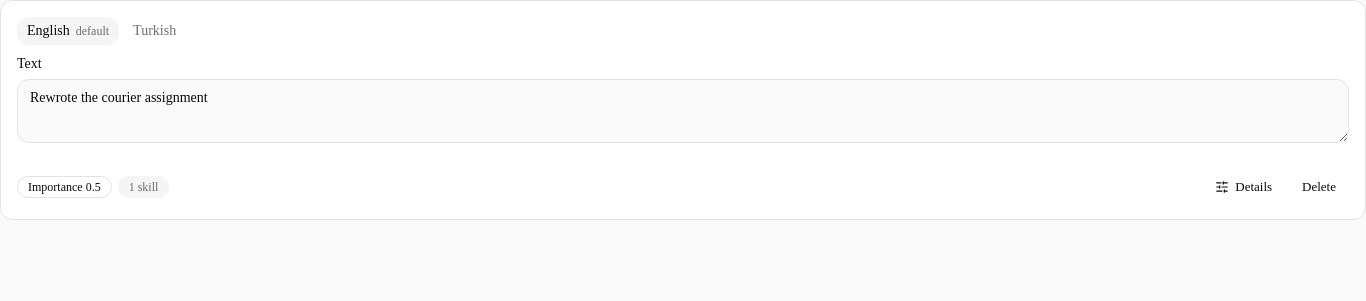
Test: a wording that was translated rather than written › stops once the reader has made the wording theirs
The width and height of the screenshot is (1366, 301).
Click the tab "Turkish": (155, 31) [123,17,186,45]
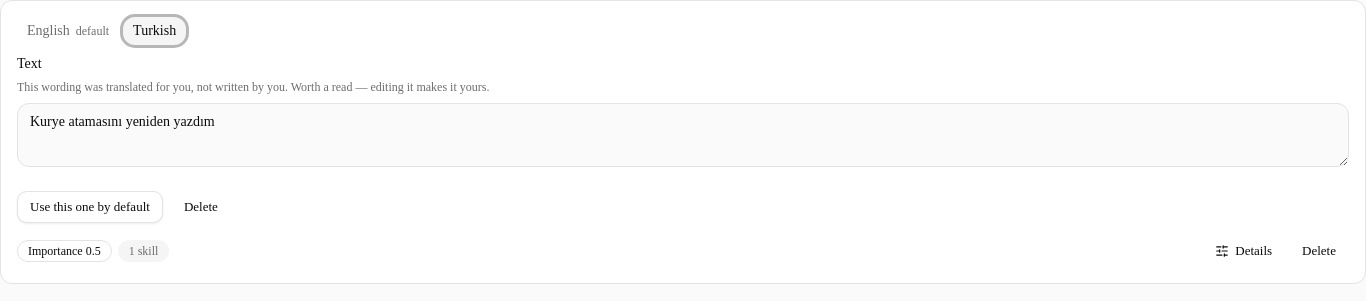
Check: the message with test id "translated-wording" is shown, box [17,80,489,94]
Replace the text in the text box labelled "Text" with "Kurye atamasını baştan yazdım": (683, 135) [17,103,1349,167]
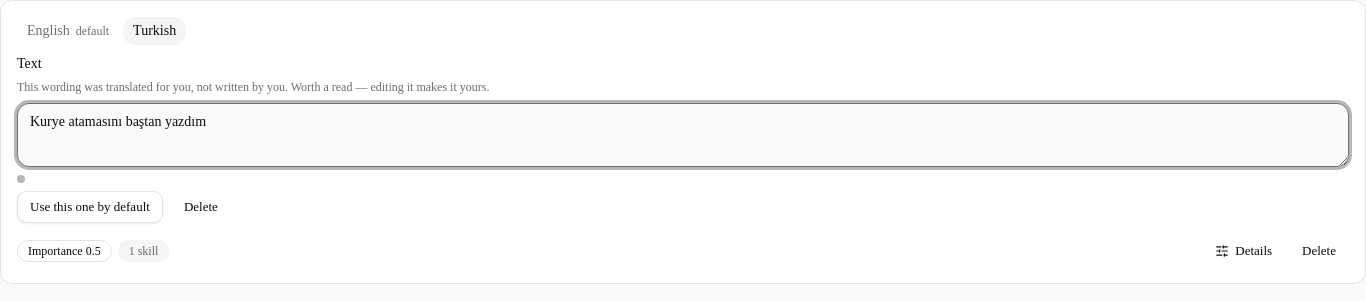
Press Tab
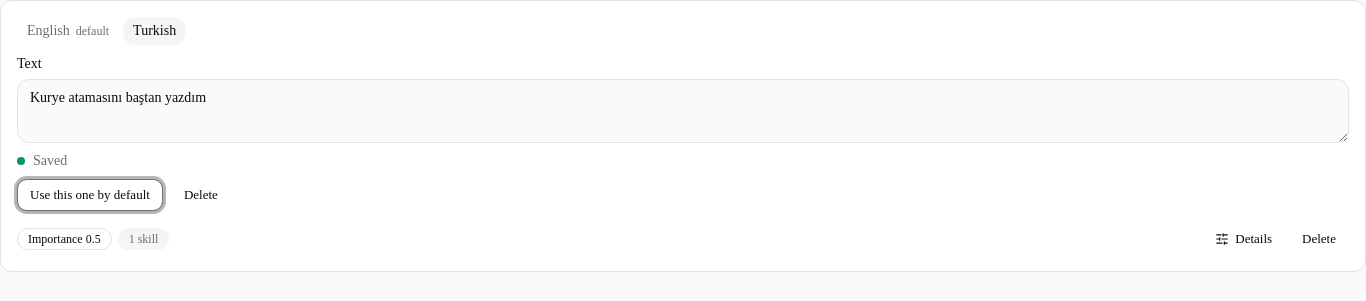
Check: the message with test id "translated-wording" is gone
